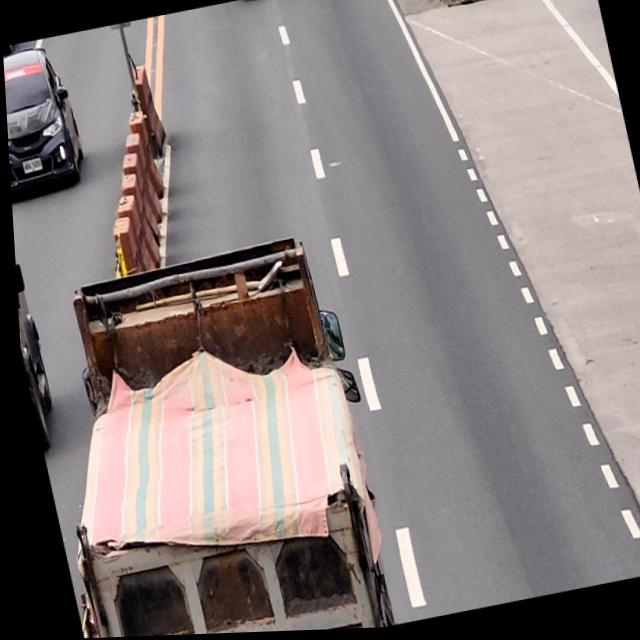Truck: (11, 229, 403, 640)
